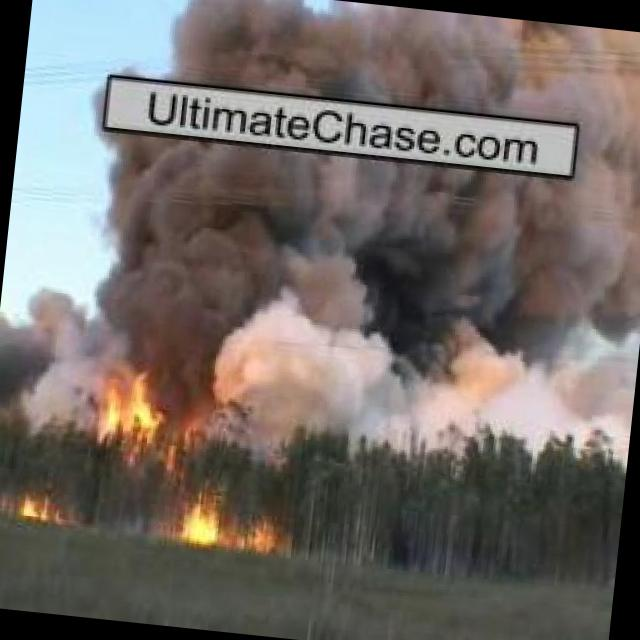Fire: (88, 352, 175, 459), (187, 491, 229, 546), (14, 484, 54, 524), (252, 518, 280, 552)
Smoke: (65, 139, 640, 432), (160, 0, 640, 135)
